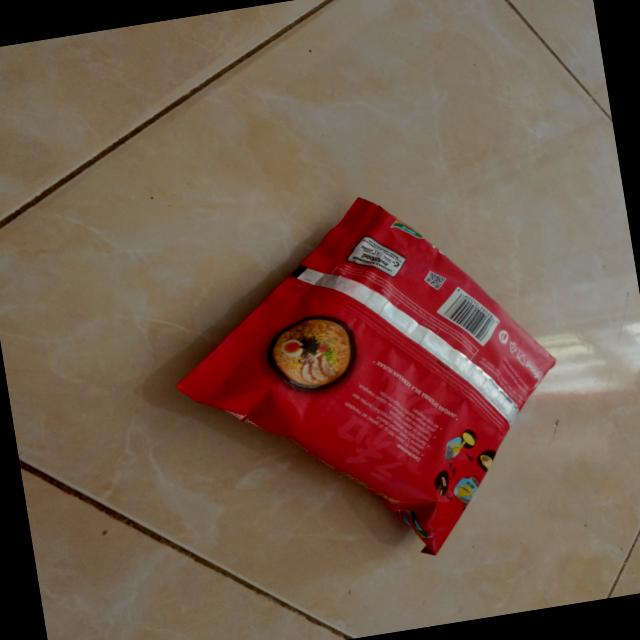indomie-tori-miso: (148, 170, 584, 594)
